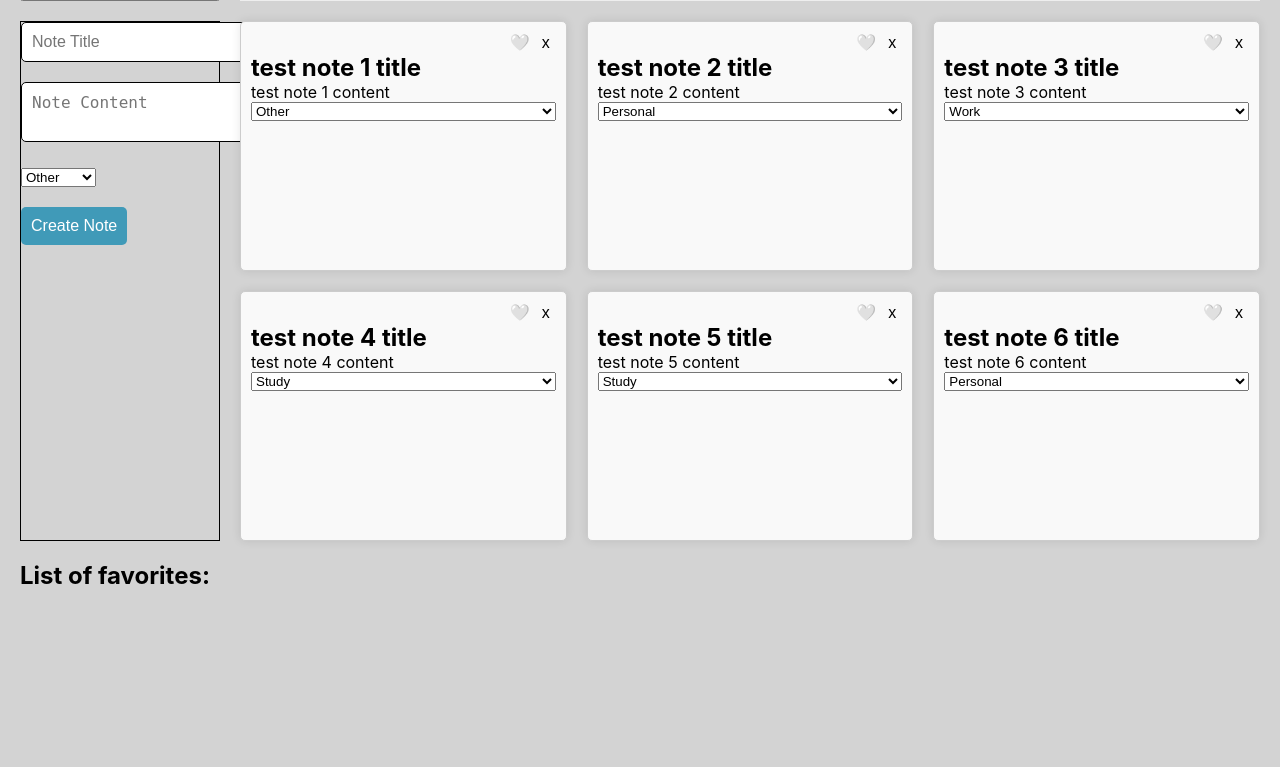
Test: Favorite Notes › favorites a note
In the field with placeholder "Note Title": {"x": 136, "y": 42} [21,22,250,62], type "New Note"
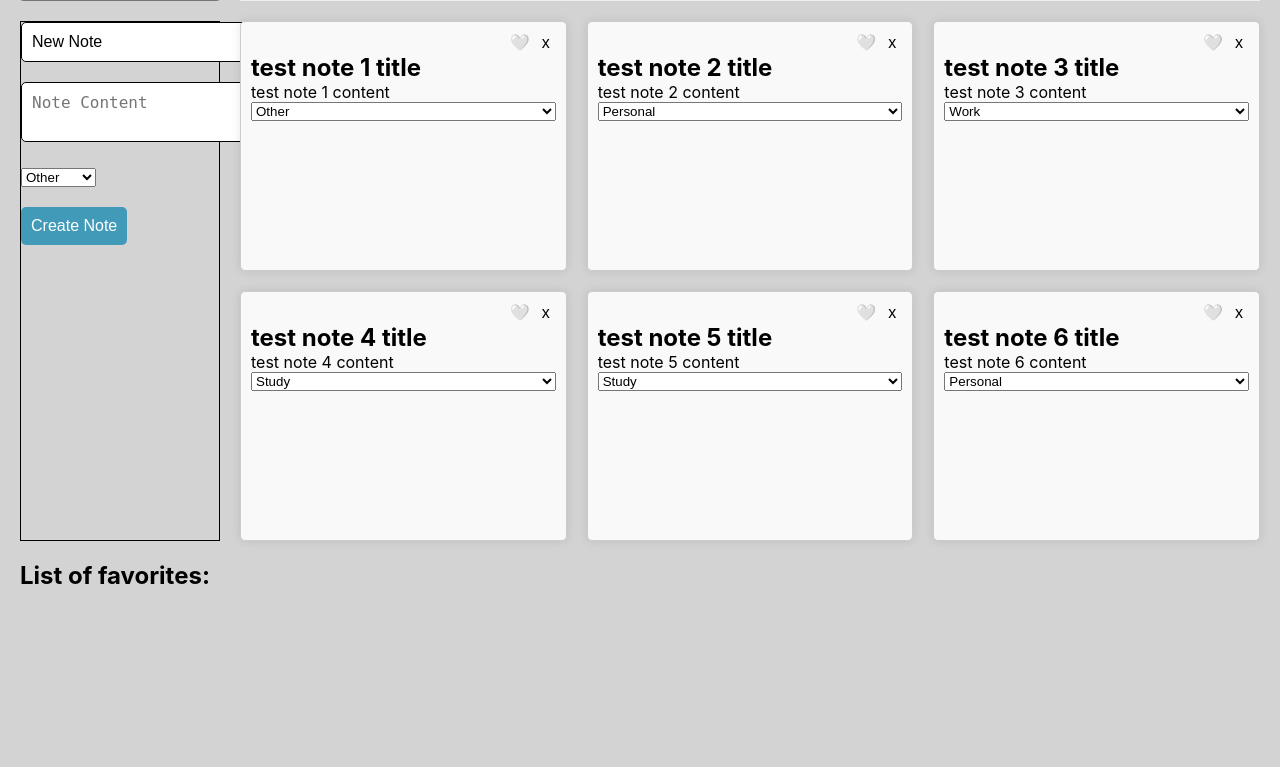
In the text box with placeholder "Note Content": {"x": 140, "y": 112} [21,82,258,142], type "Note content"
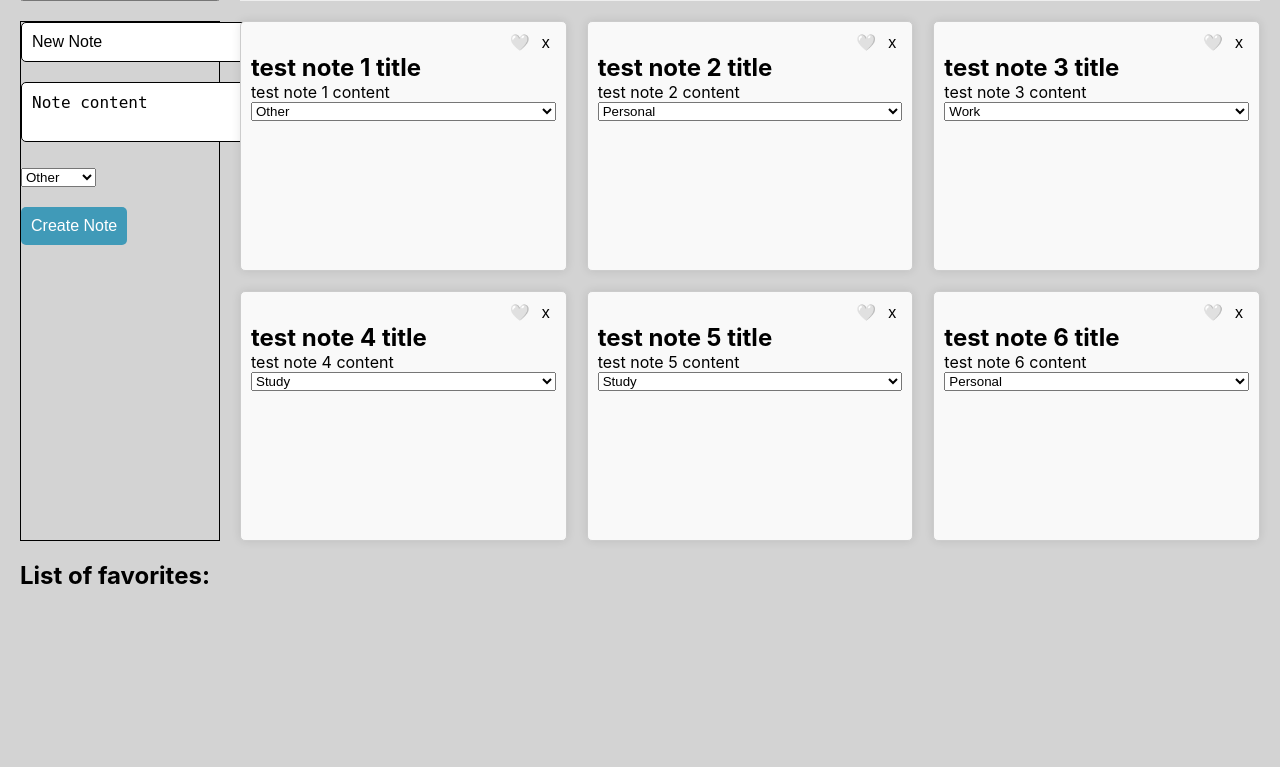
Click the button "Create Note": {"x": 74, "y": 226} [21,207,127,245]
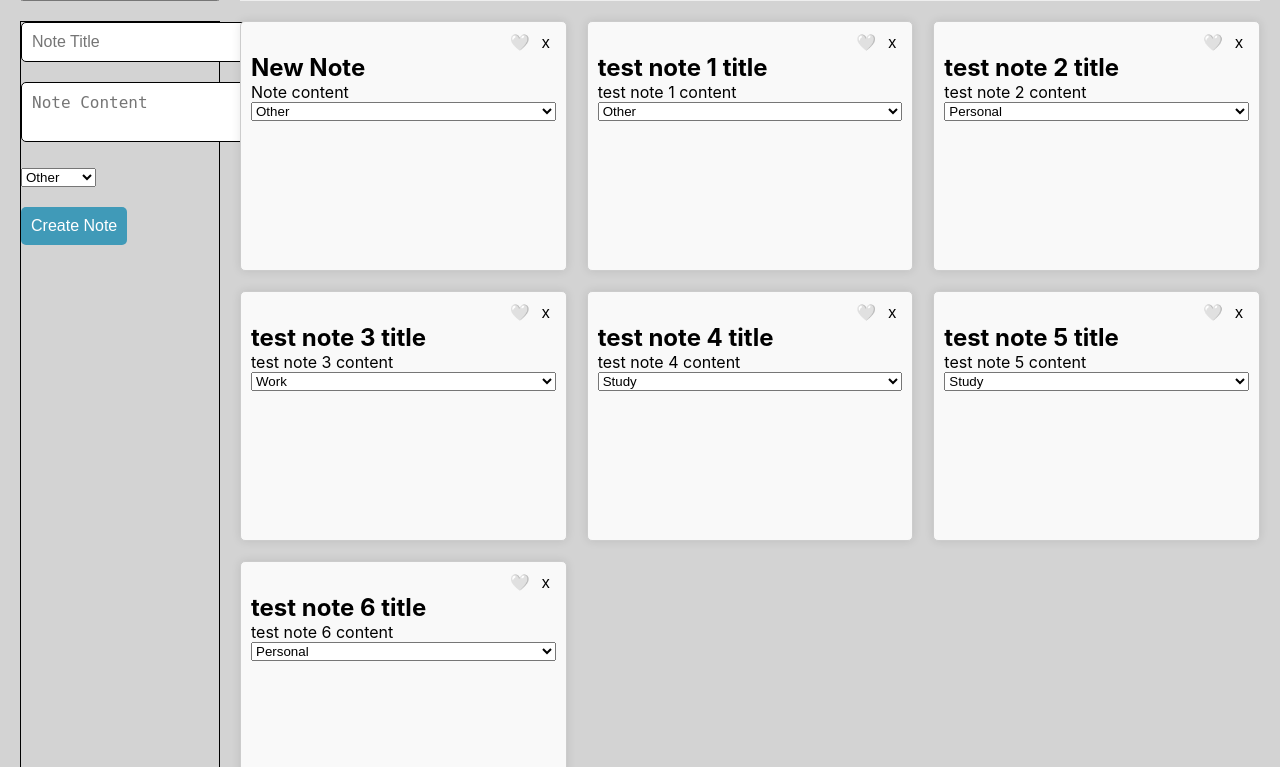
Click the button with test id "fav-button-7": {"x": 520, "y": 42} [504,32,536,53]
(page scrolled)
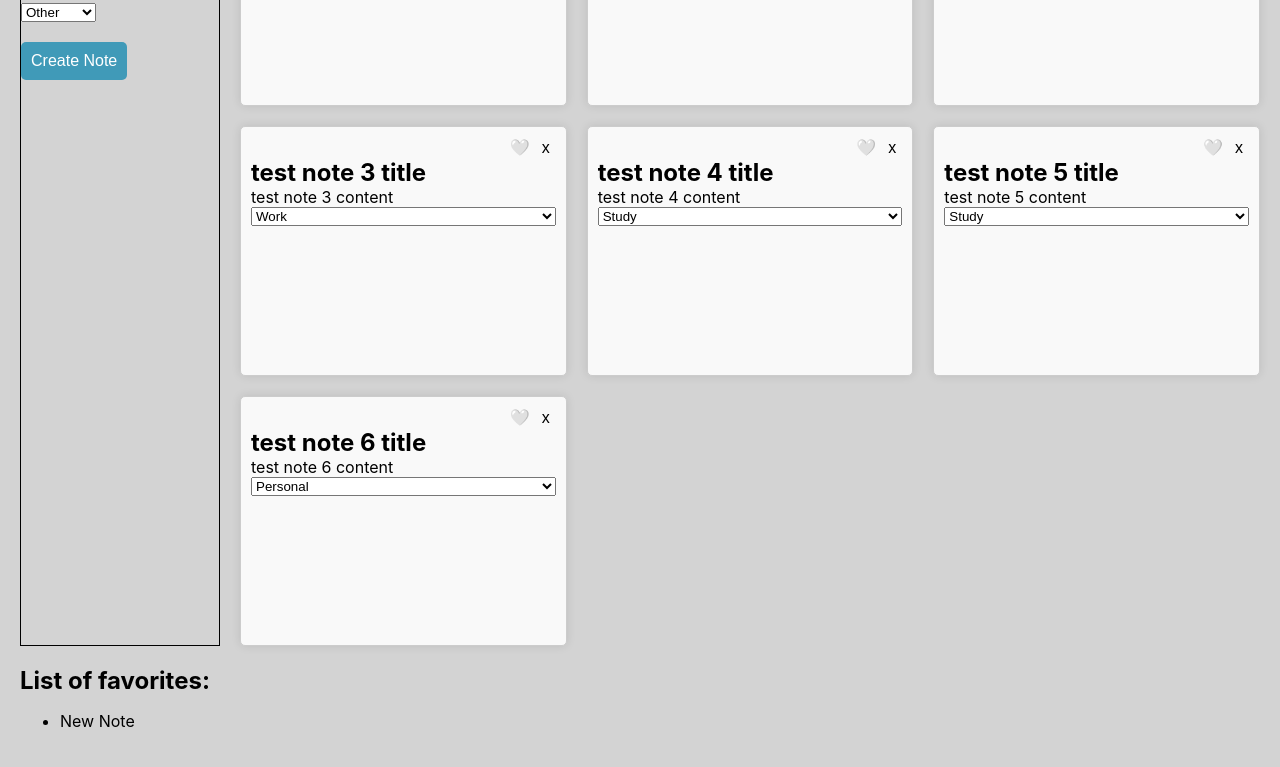
Expected: the element with class "favorites-list" is shown, [20,666,220,747]
Result: the element with class "favorites-list" shows "New Note" at [60,711,135,731]
